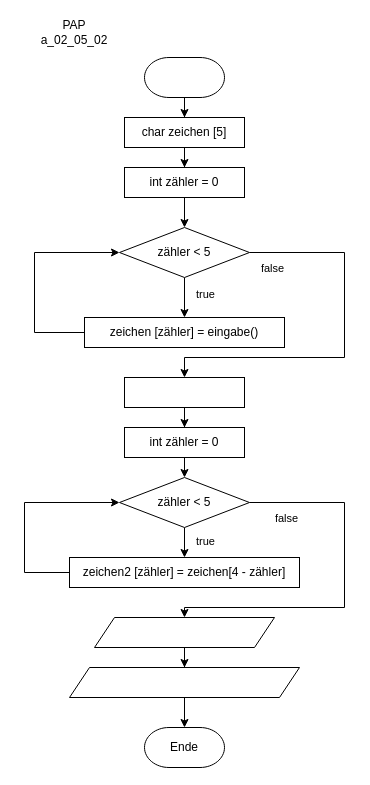
This 370x785 diagram has some shape labels left out. The shapes that lost their labels are listed below. From the top down, each one's box as (x1, y1, x2, y2) in pixels, then its label:
(144, 56, 224, 98): Start
(124, 376, 244, 408): char zeichen2 [5]
(94, 616, 274, 648): ausgabe(zeichen[zähler])
(68, 666, 300, 698): ausgabe(zeichen2[4 - zähler])
